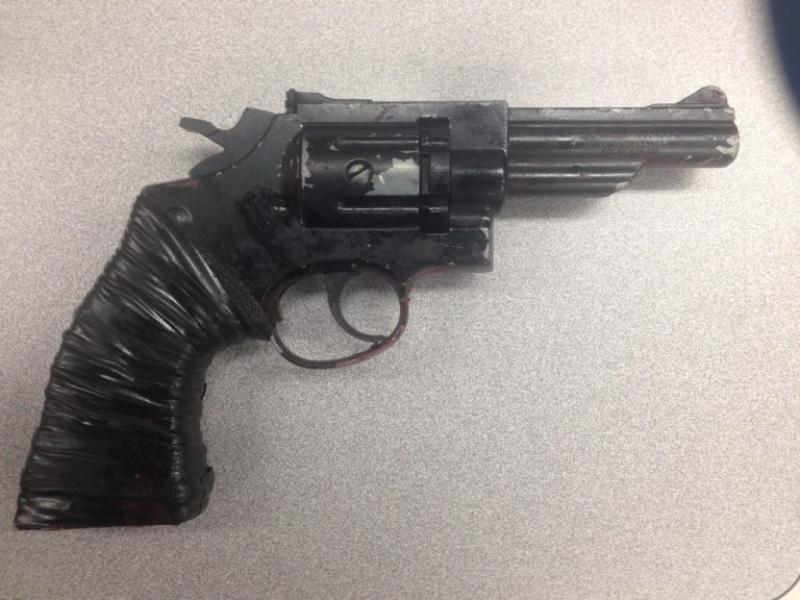gun: (14, 74, 743, 543)
